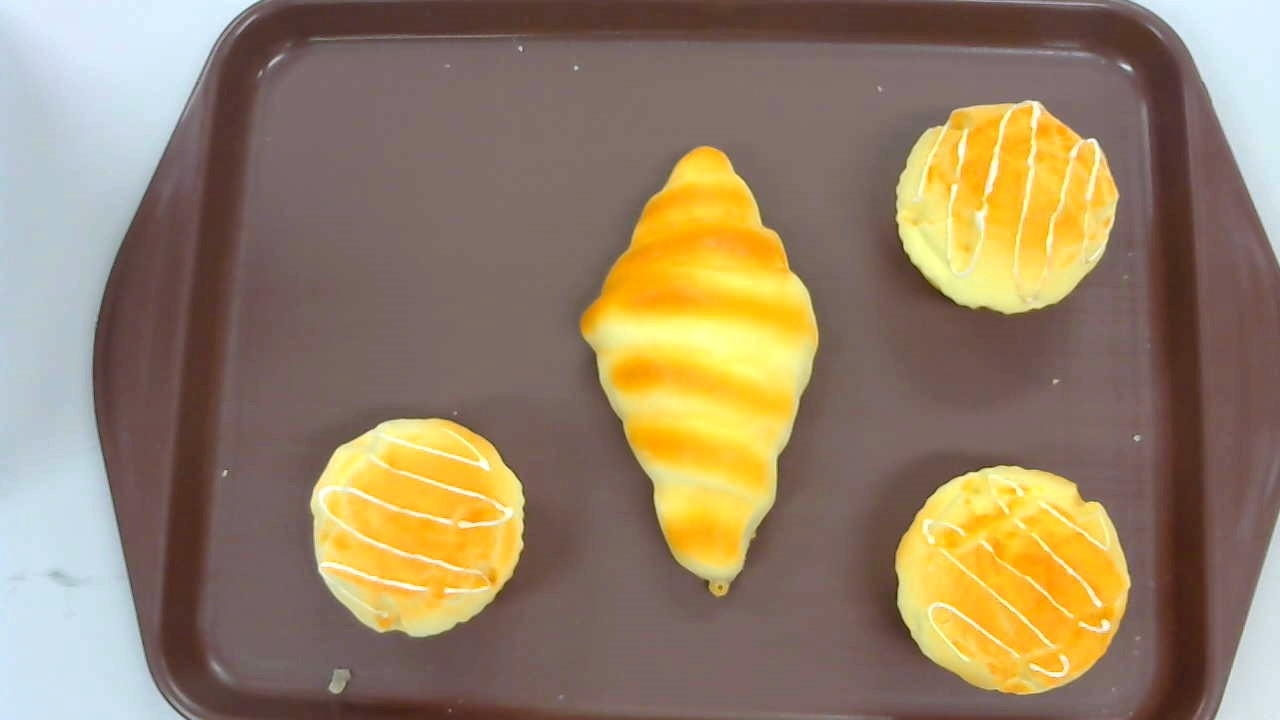croissant: (579, 143, 819, 597)
cupcake: (896, 466, 1131, 695), (896, 99, 1121, 318), (310, 417, 525, 638)
